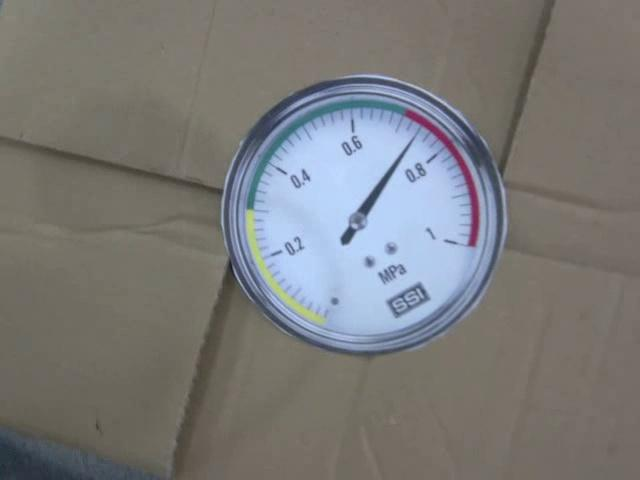Dashboard: (219, 71, 509, 356)
ssi: (386, 282, 431, 319)
